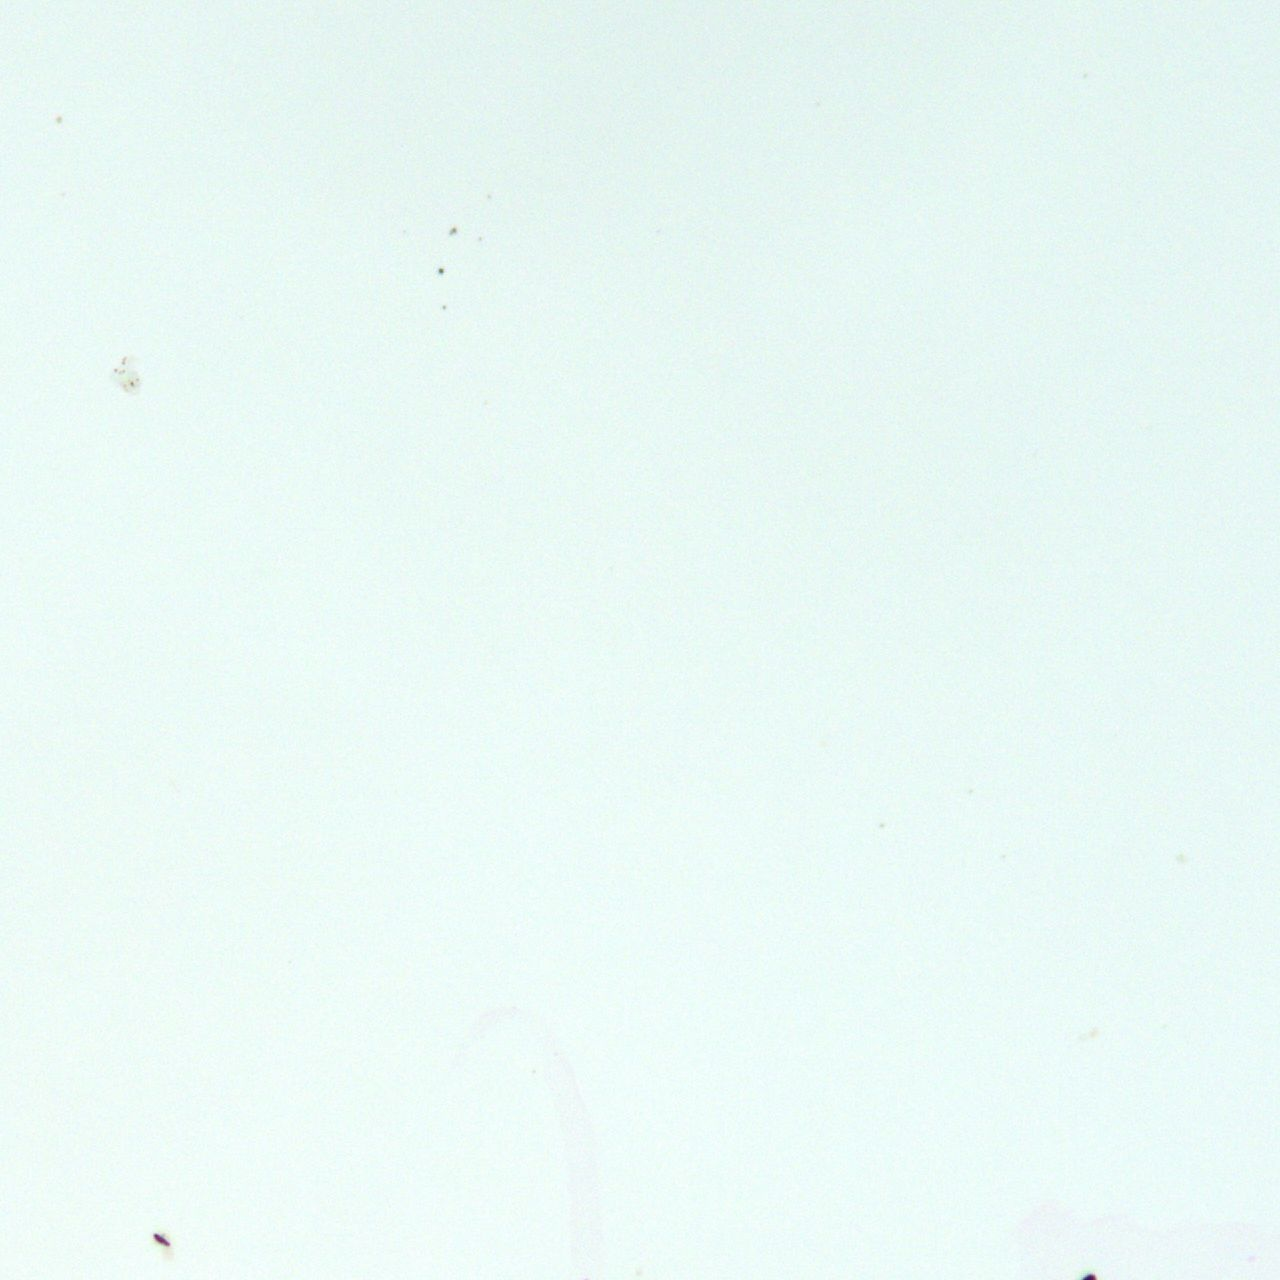dust: (152, 1231, 171, 1250), (449, 226, 456, 234), (440, 267, 443, 273), (442, 305, 445, 308)
